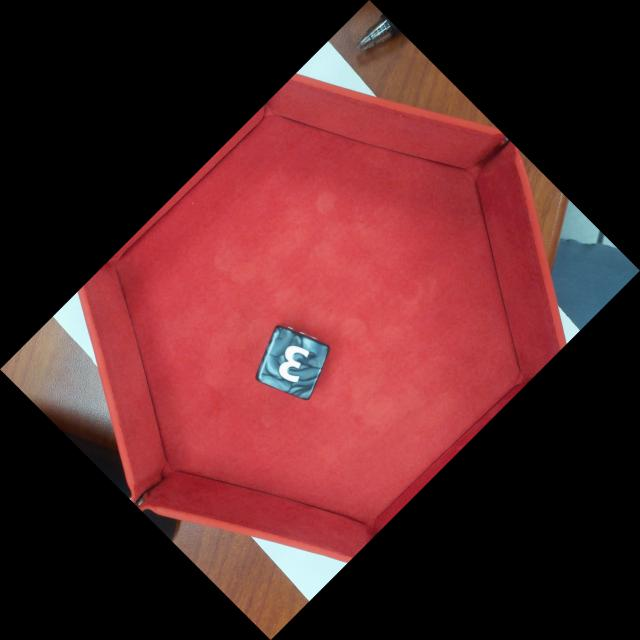dice: (256, 326, 331, 402)
